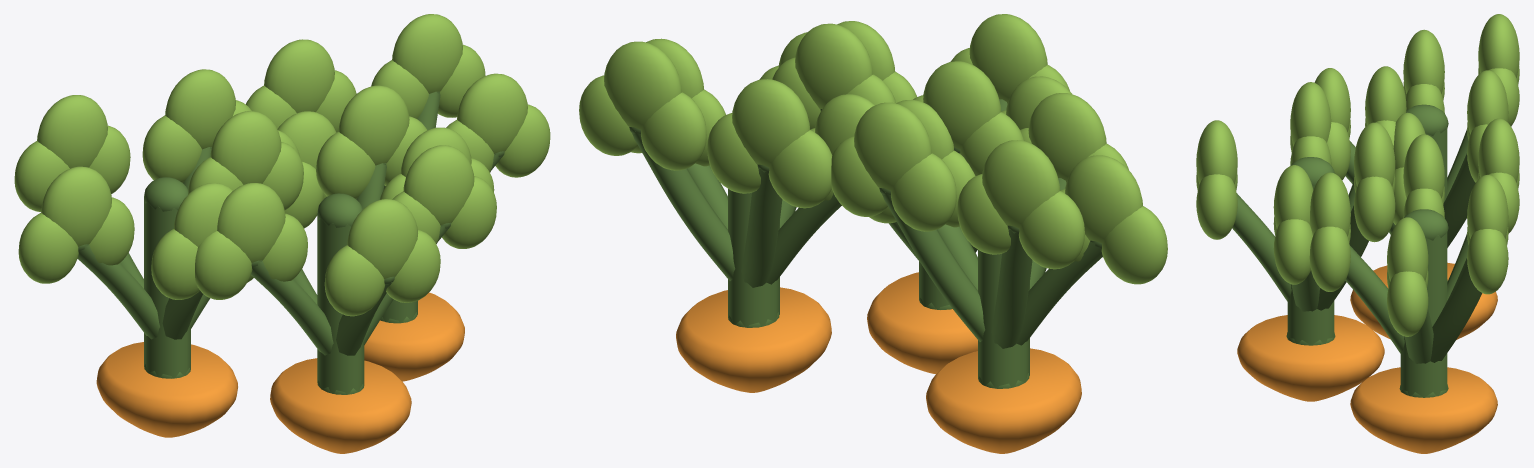
The model's file is crop_2_stage_2.fbx.
3 renders of one model, left to right at view 1: azimuth 30°, elevation 25°; view 2: azimuth 150°, elevation 25°; view 3: azimuth 270°, elevation 25°, orthographic. The views are drawn at different scales.
Visible parts, largest first — view 1: crop_2_stage_2; view 2: crop_2_stage_2; view 3: crop_2_stage_2.
Part boxes in pixels (x1=…): crop_2_stage_2: x1=14, y1=14, x2=550, y2=453; crop_2_stage_2: x1=579, y1=14, x2=1167, y2=453; crop_2_stage_2: x1=1196, y1=14, x2=1519, y2=453.
Bounding box in the file's own units: 0.49 × 0.2925 × 0.28.
Materials: 1 (1 with a texture image).
